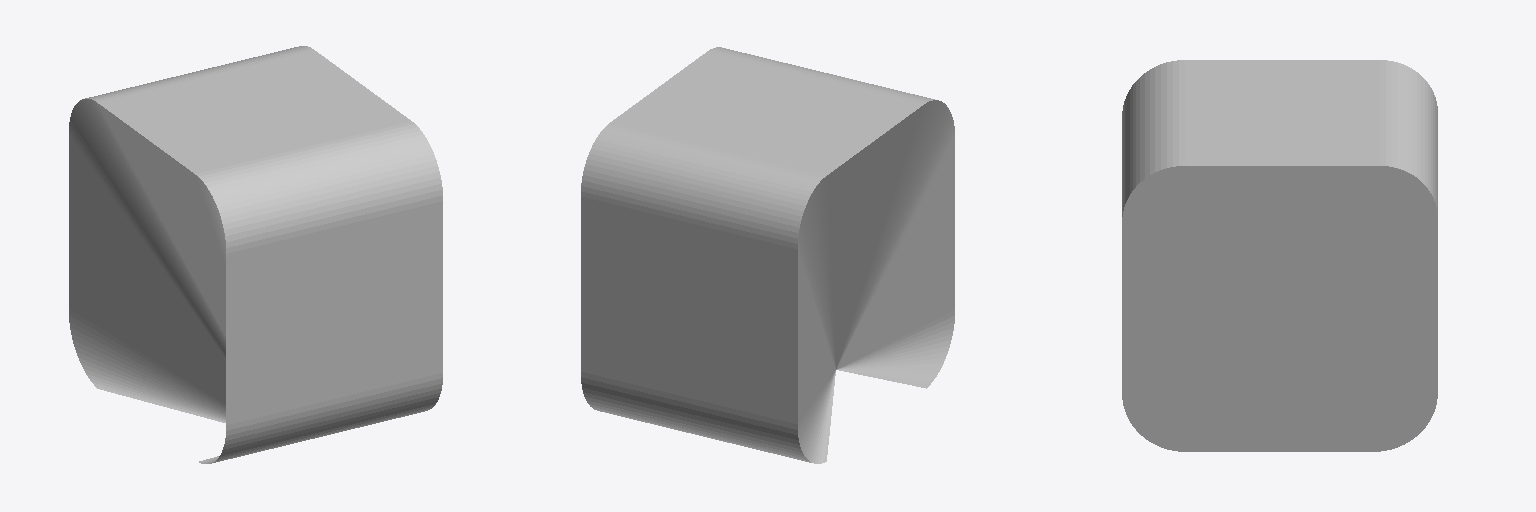
File: CubeVersionTwo.obj
3 views of the same model, side by side, from view 1: azimuth 30°, elevation 25°; view 2: azimuth 150°, elevation 25°; view 3: azimuth 270°, elevation 25° (orthographic).
Visible parts, largest first — view 1: Cube; view 2: Cube; view 3: Cube.
Boxes of the visible parts, box(x1,y1,x2,y2) form: Cube: box(69, 46, 442, 463); Cube: box(581, 47, 954, 463); Cube: box(1122, 60, 1437, 451).
Bounding box in the file's own units: 1.59 × 2 × 2.